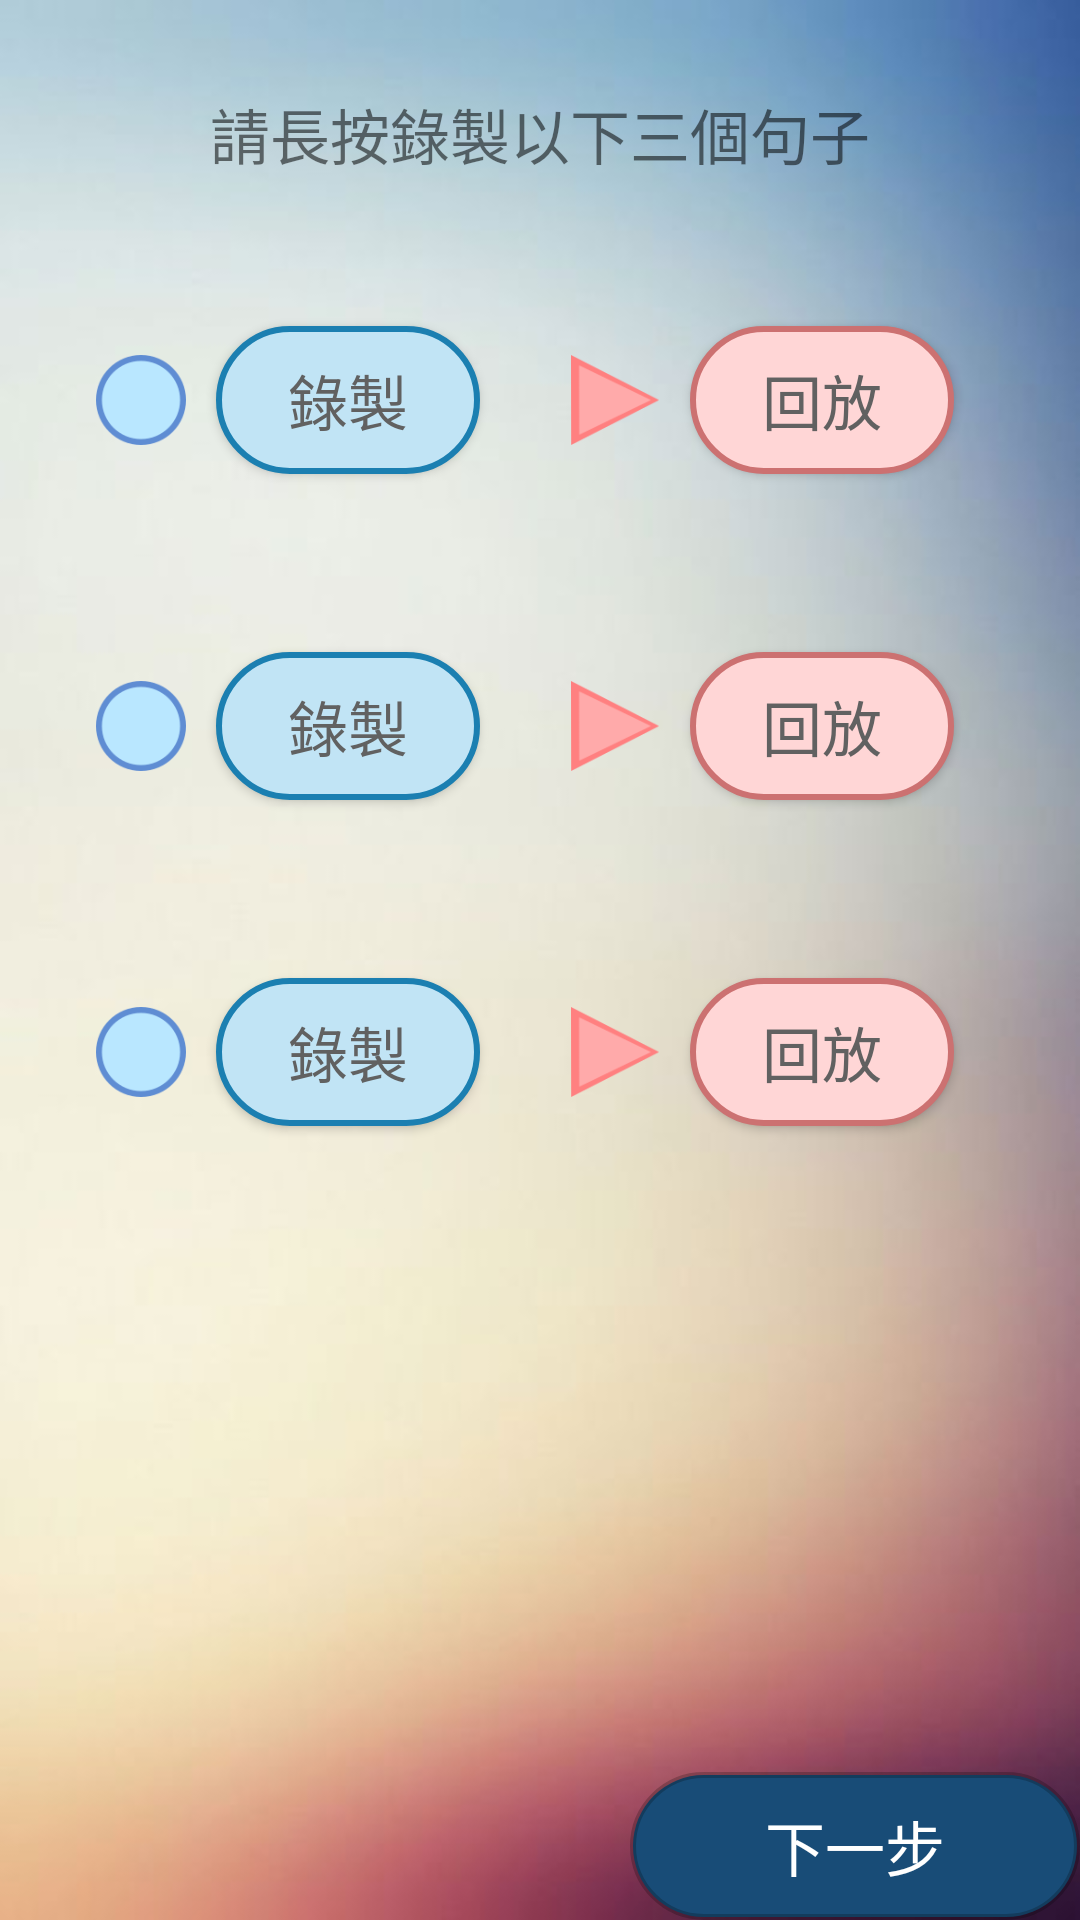

Locate icon controls on the screen. Image size 1080 x 1920, boxes as (x1, y1, x2, y2).
play: (571, 355, 659, 445), (571, 681, 659, 771), (571, 1007, 659, 1097)
record: (96, 355, 186, 445), (96, 681, 186, 771), (96, 1007, 186, 1097)
